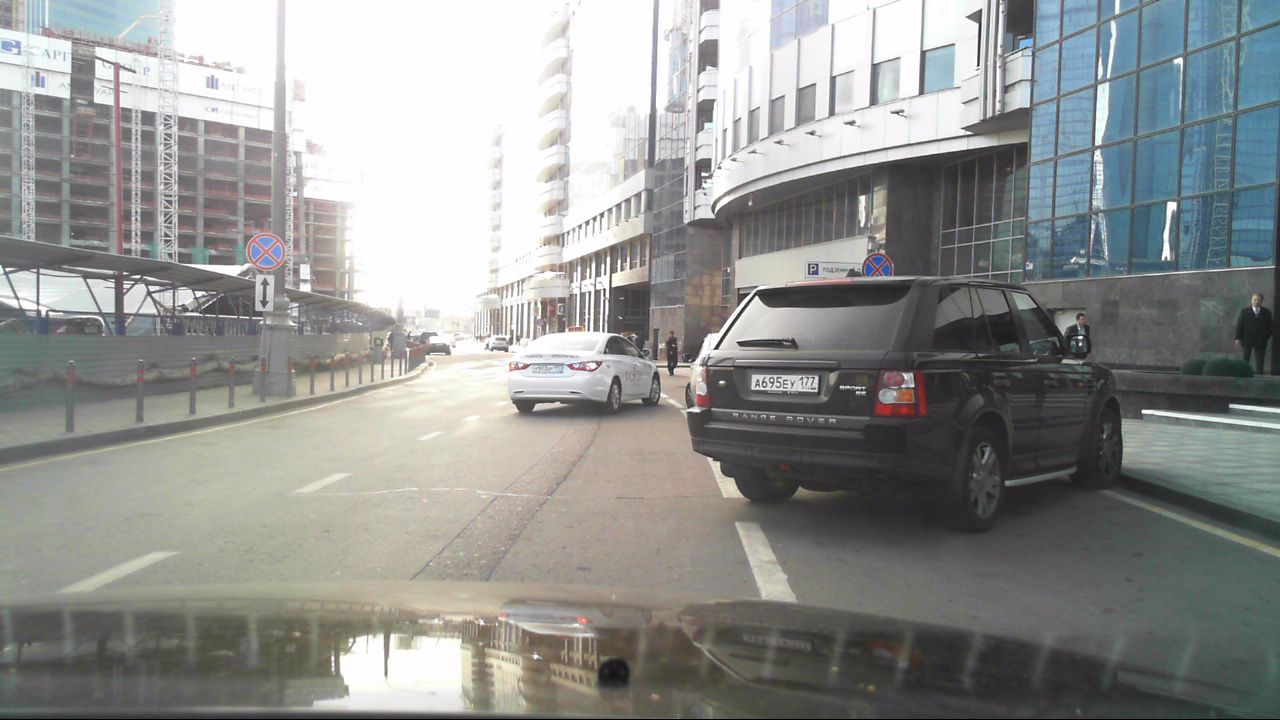No Parking: (861, 251, 893, 286)
